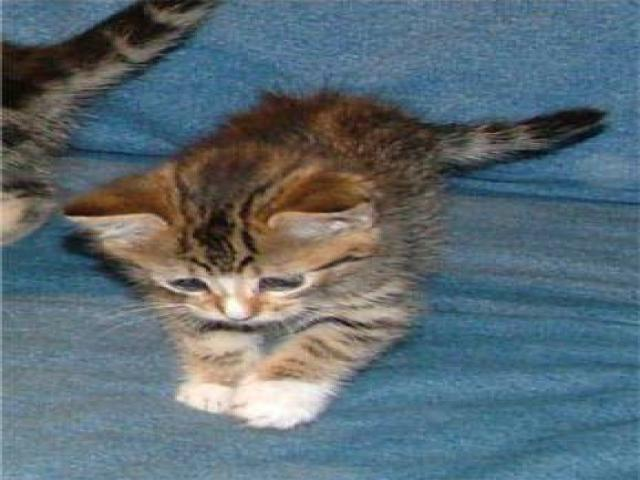cat: (54, 87, 600, 431)
